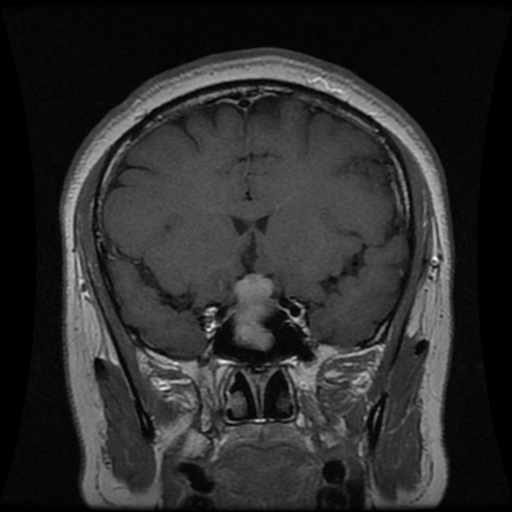pituitary: (232, 274, 275, 349)
